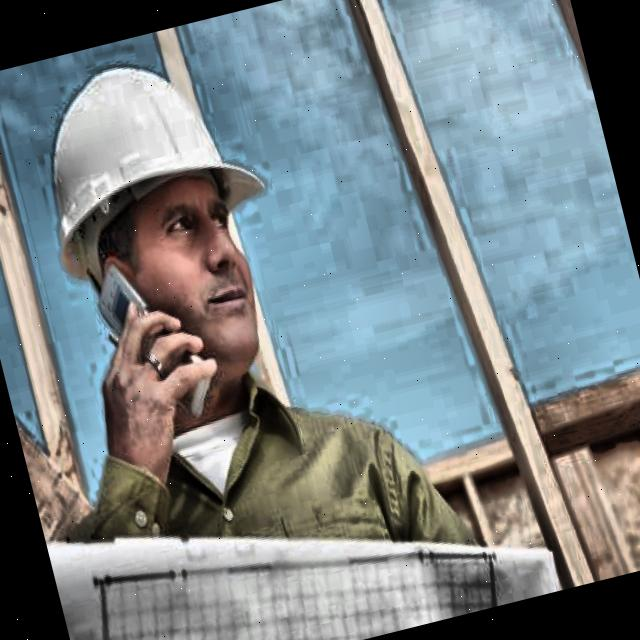helmet: (0, 11, 331, 458)
